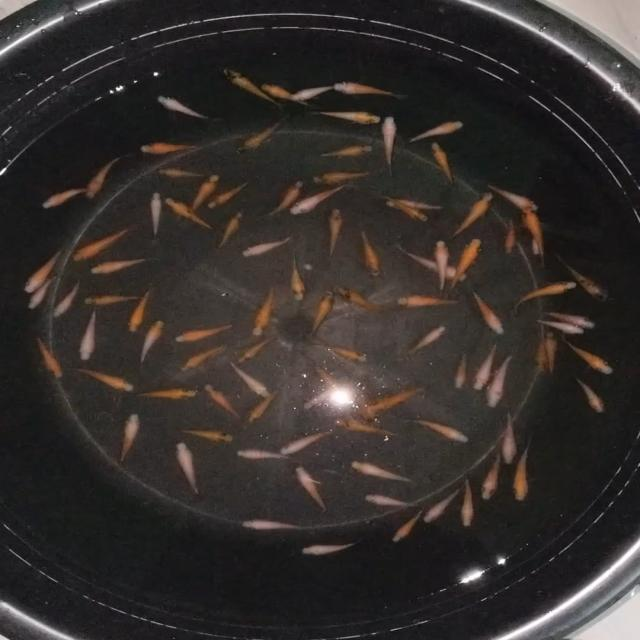nila: (314, 365, 379, 426), (392, 238, 470, 282), (220, 62, 286, 110), (556, 256, 618, 306), (233, 111, 299, 156), (69, 220, 138, 262), (510, 278, 578, 316), (400, 411, 475, 443), (284, 180, 352, 215), (361, 380, 429, 415), (448, 190, 494, 239), (560, 336, 616, 376), (154, 92, 227, 122), (331, 282, 389, 319), (182, 171, 220, 227), (468, 286, 508, 339), (292, 463, 332, 516), (488, 348, 521, 412), (420, 484, 468, 528), (478, 178, 540, 212), (520, 201, 552, 266), (84, 152, 125, 202), (346, 458, 424, 484), (22, 246, 64, 294), (172, 441, 204, 504), (276, 425, 336, 458), (448, 236, 482, 294), (69, 365, 134, 395), (258, 77, 317, 110), (258, 178, 306, 218), (248, 278, 278, 341), (163, 198, 216, 233), (201, 380, 243, 423), (244, 381, 286, 423), (228, 360, 272, 400), (536, 304, 601, 331), (511, 435, 536, 505), (37, 182, 95, 212), (120, 285, 153, 337), (180, 338, 232, 371), (286, 79, 354, 104), (405, 118, 465, 146), (170, 318, 234, 344), (331, 416, 406, 438), (32, 330, 64, 381), (307, 285, 336, 340), (309, 106, 383, 127), (48, 276, 85, 318), (380, 192, 430, 223), (311, 338, 373, 363), (403, 323, 447, 358), (136, 317, 166, 368), (391, 508, 432, 545), (241, 232, 295, 260), (22, 269, 56, 313), (475, 340, 503, 393), (204, 175, 250, 207), (88, 253, 152, 276), (296, 537, 362, 559), (76, 304, 100, 364), (116, 410, 140, 470), (572, 376, 606, 417), (356, 222, 380, 280), (530, 313, 588, 337), (329, 79, 402, 98), (309, 166, 376, 186), (236, 516, 306, 535), (498, 409, 522, 464), (458, 467, 478, 532), (214, 209, 245, 250), (360, 494, 430, 512), (324, 205, 346, 262), (429, 140, 455, 188), (392, 293, 460, 311), (478, 450, 502, 501), (233, 334, 273, 364), (135, 138, 206, 154), (380, 196, 450, 212), (231, 446, 289, 465), (288, 248, 308, 303), (80, 292, 148, 308), (180, 425, 236, 444), (383, 114, 398, 181), (542, 325, 560, 377), (530, 331, 550, 376), (318, 144, 374, 160), (434, 237, 450, 292), (146, 190, 164, 238), (134, 388, 198, 401), (454, 351, 472, 394), (154, 166, 210, 179), (300, 389, 331, 411), (502, 218, 519, 256), (528, 234, 548, 258)
